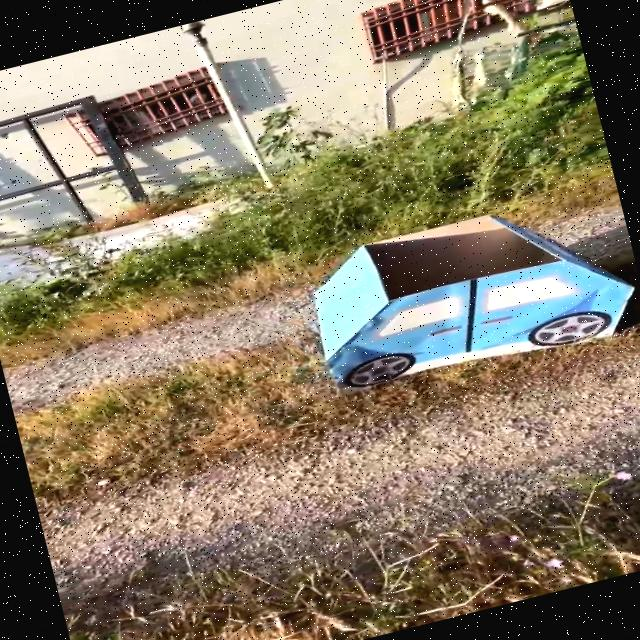blue_car: (258, 165, 640, 432)
